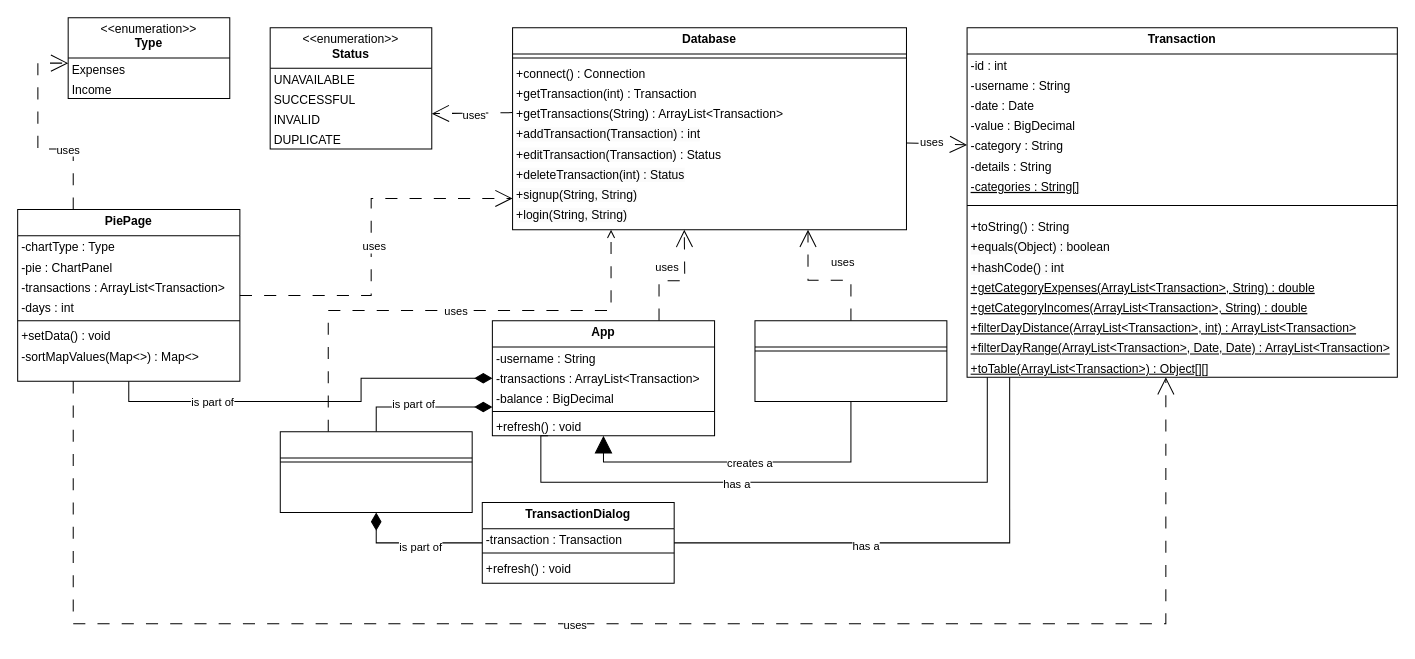
The diagram is 1415 pixels wide and 659 high, and some of its shapes have lost their labels. Each missing label, with the centre of its shape:
Login: point (850, 360)
WalletPage: point (375, 472)
